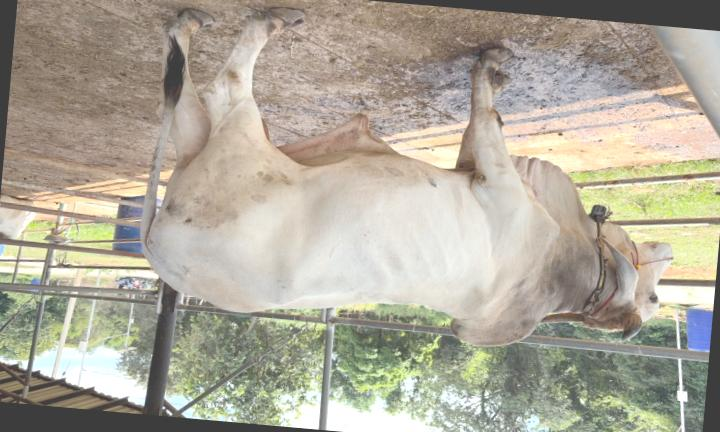Brahman: (140, 8, 673, 346)
